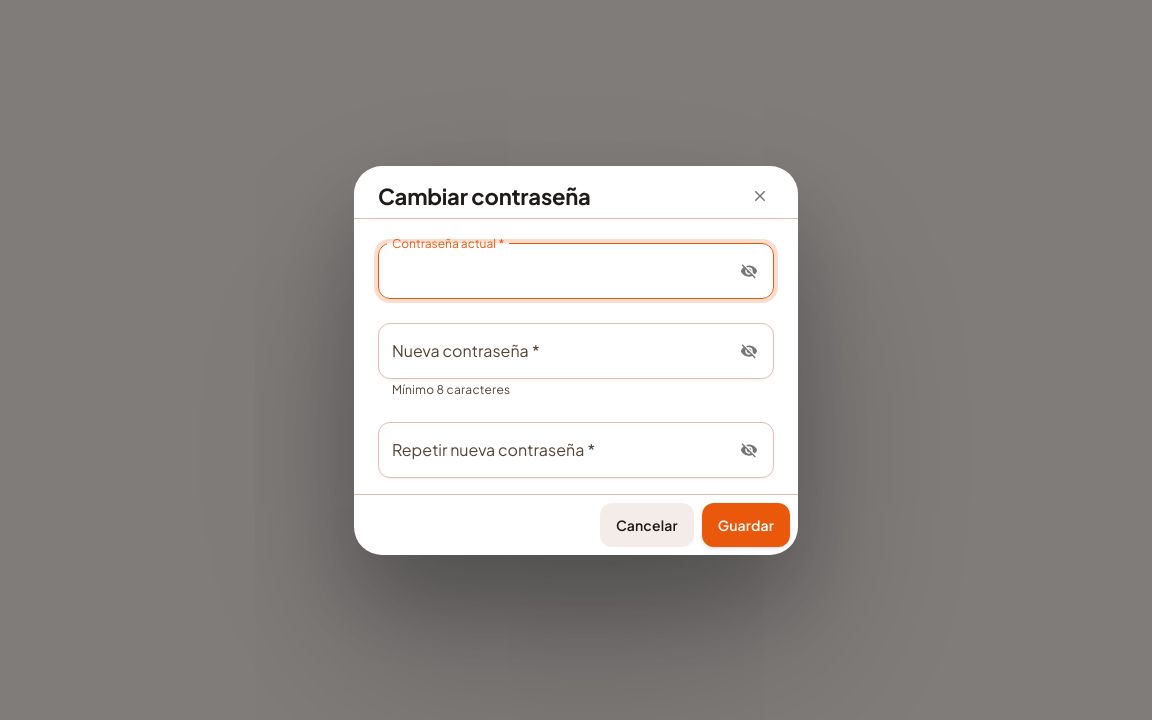
ChangePasswordDialog › surfaces a server error and does not report success
The image size is (1152, 720).
Type "wrong-secret" into the password field labelled "Contraseña actual *" at (552, 270), box left=378, top=242, right=727, bottom=298
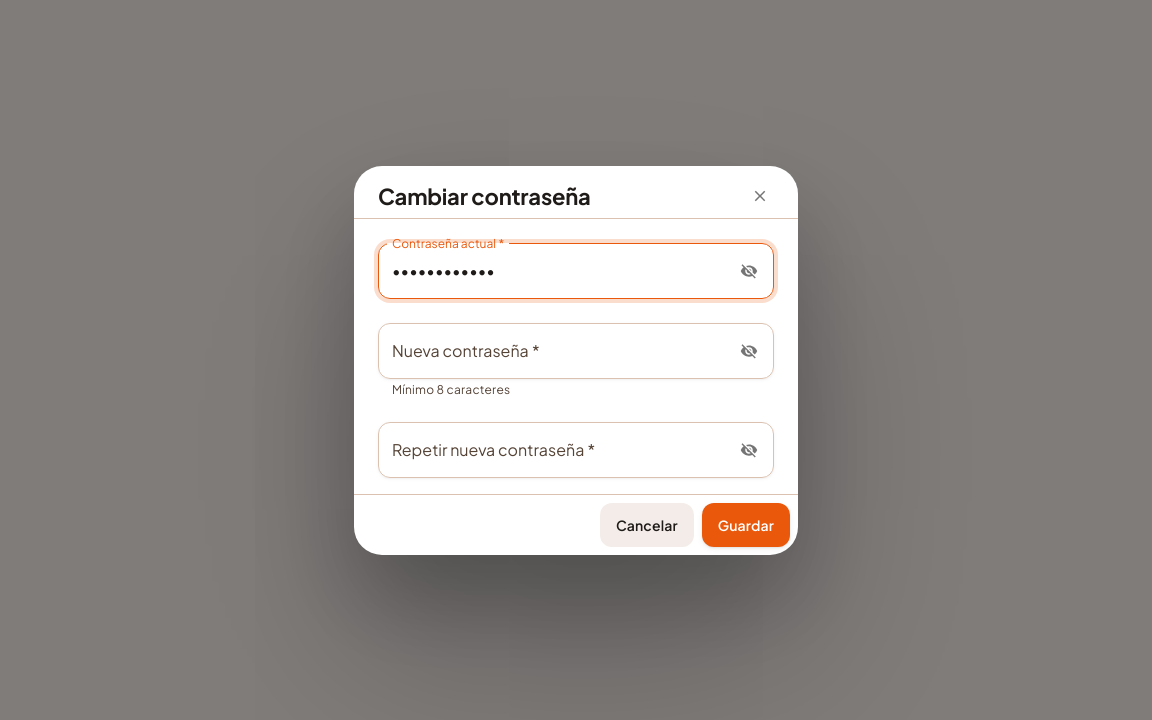
Type "new-secret-1" into the password field labelled "Nueva contraseña *" at (552, 350), box left=378, top=322, right=727, bottom=378
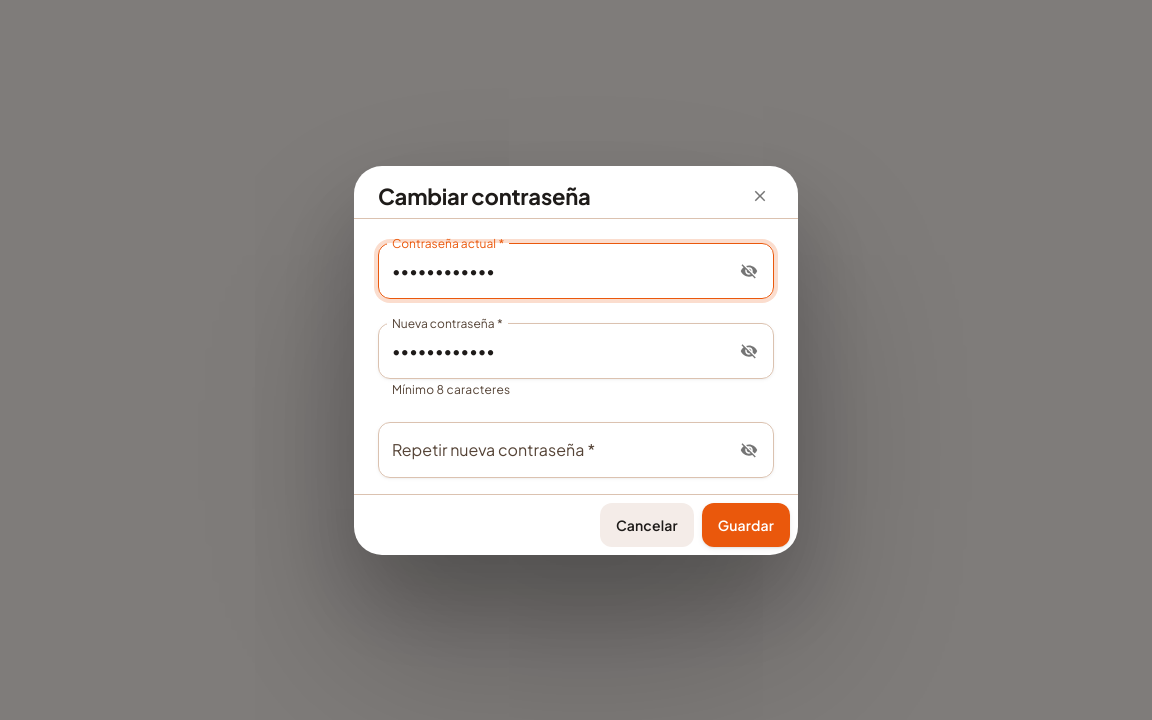
Type "new-secret-1" into the password field labelled "Repetir nueva contraseña *" at (552, 450), box left=378, top=422, right=727, bottom=478
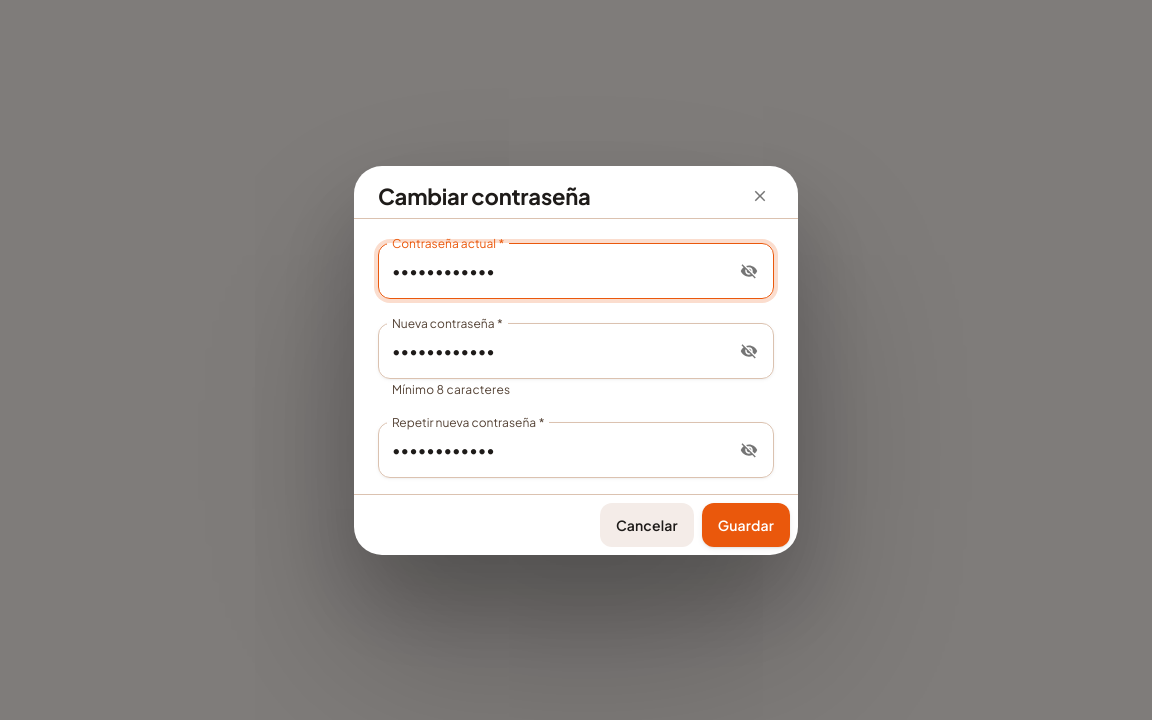
Click the button "Guardar" at (746, 524), box left=702, top=502, right=790, bottom=546
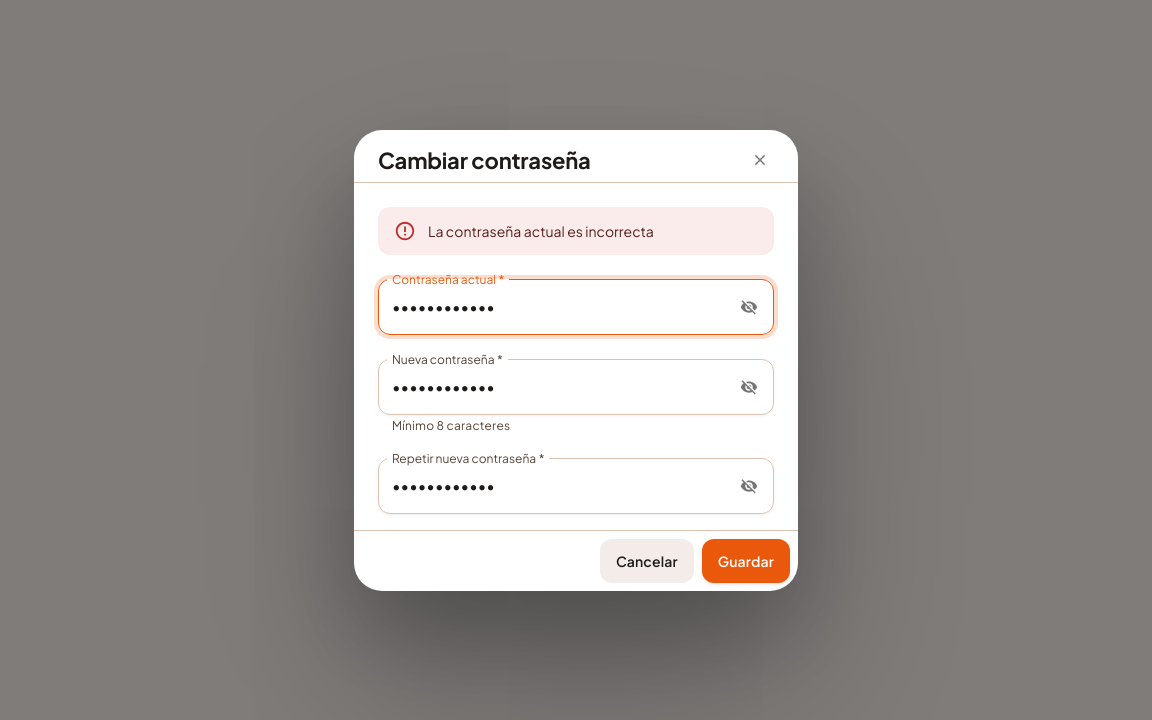
Expected: the text "La contraseña actual es incorrecta" is shown, left=428, top=222, right=654, bottom=240
